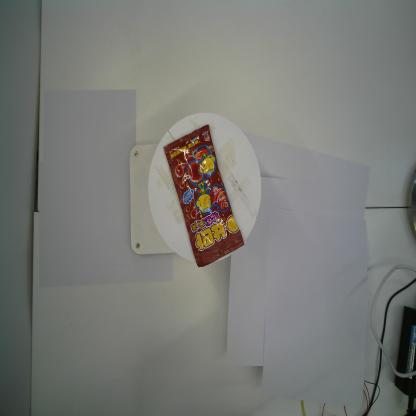Candy: (164, 124, 244, 268)
